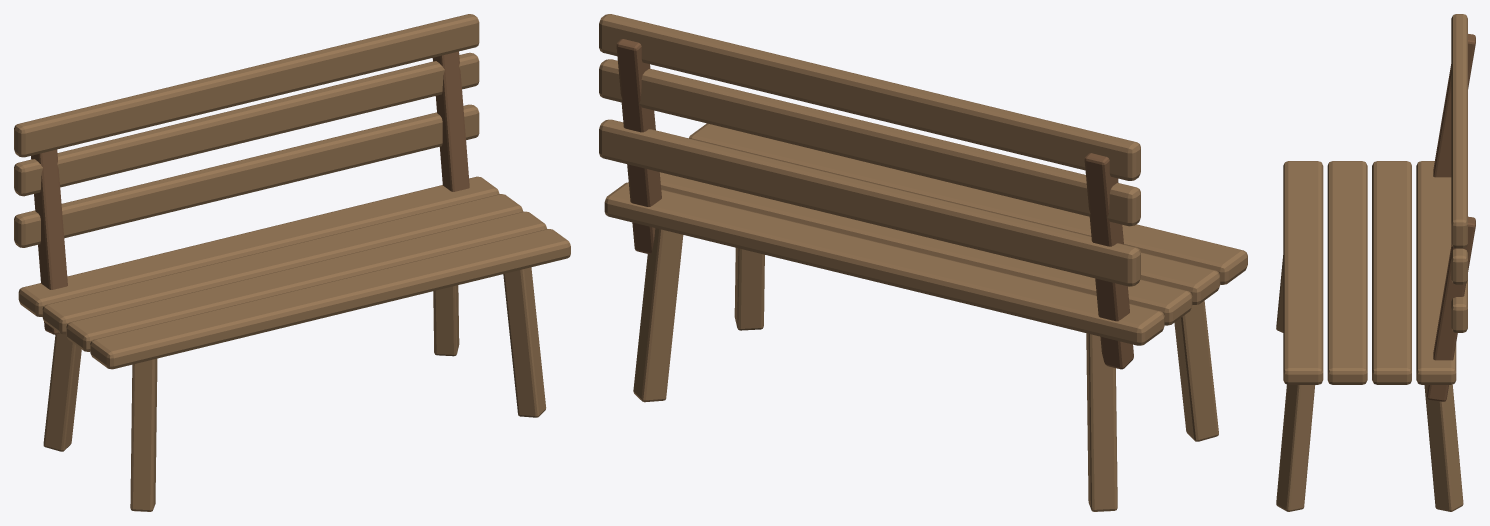
File: garden-bench.glb
3 renders of one model, left to right at view 1: azimuth 30°, elevation 25°; view 2: azimuth 150°, elevation 25°; view 3: azimuth 270°, elevation 25°, orthographic. The views are drawn at different scales.
Visible parts, largest first — view 1: garden-bench__Visual_matte; view 2: garden-bench__Visual_matte; view 3: garden-bench__Visual_matte.
Part boxes in pixels (bbox=[...]): garden-bench__Visual_matte: bbox=[14, 14, 570, 511]; garden-bench__Visual_matte: bbox=[599, 14, 1247, 511]; garden-bench__Visual_matte: bbox=[1276, 14, 1475, 511].
Size of the model in its own units: 1.5 by 1.01 by 0.5999.
